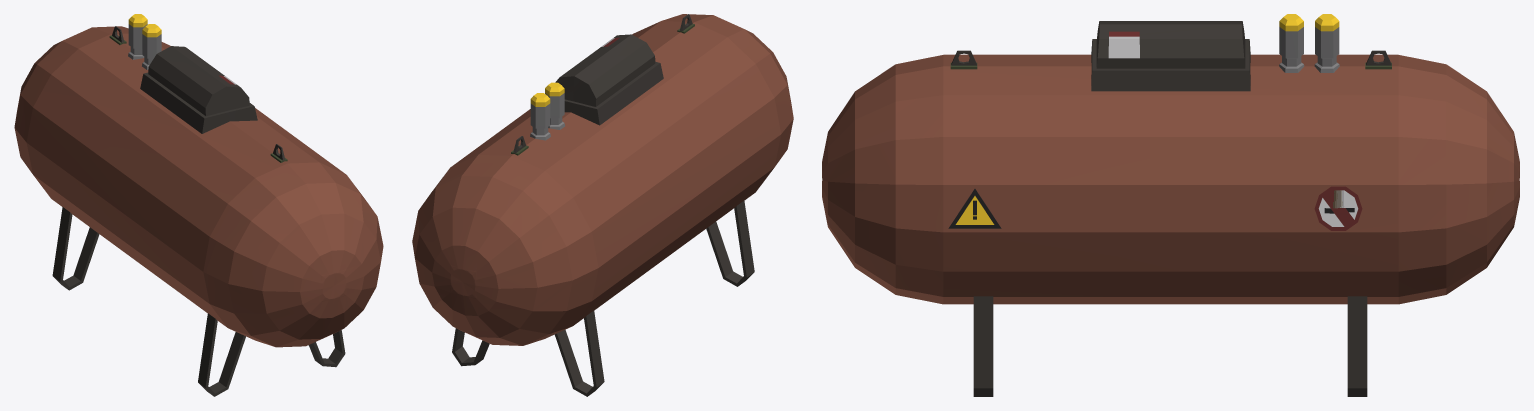
The model's file is SM_tank.gltf.
3 renders of one model, left to right at view 1: azimuth 30°, elevation 25°; view 2: azimuth 150°, elevation 25°; view 3: azimuth 270°, elevation 25°, orthographic. The views are drawn at different scales.
Parts seen in each view (by area): view 1: SM_tank; view 2: SM_tank; view 3: SM_tank.
Boxes of the visible parts, left/top/right/bottom form: SM_tank: left=14, top=14, right=383, bottom=396; SM_tank: left=412, top=14, right=793, bottom=396; SM_tank: left=822, top=14, right=1519, bottom=396.
Size of the model in its own units: 1.83 by 2.77 by 5.12.
1 material, 1 textured.
